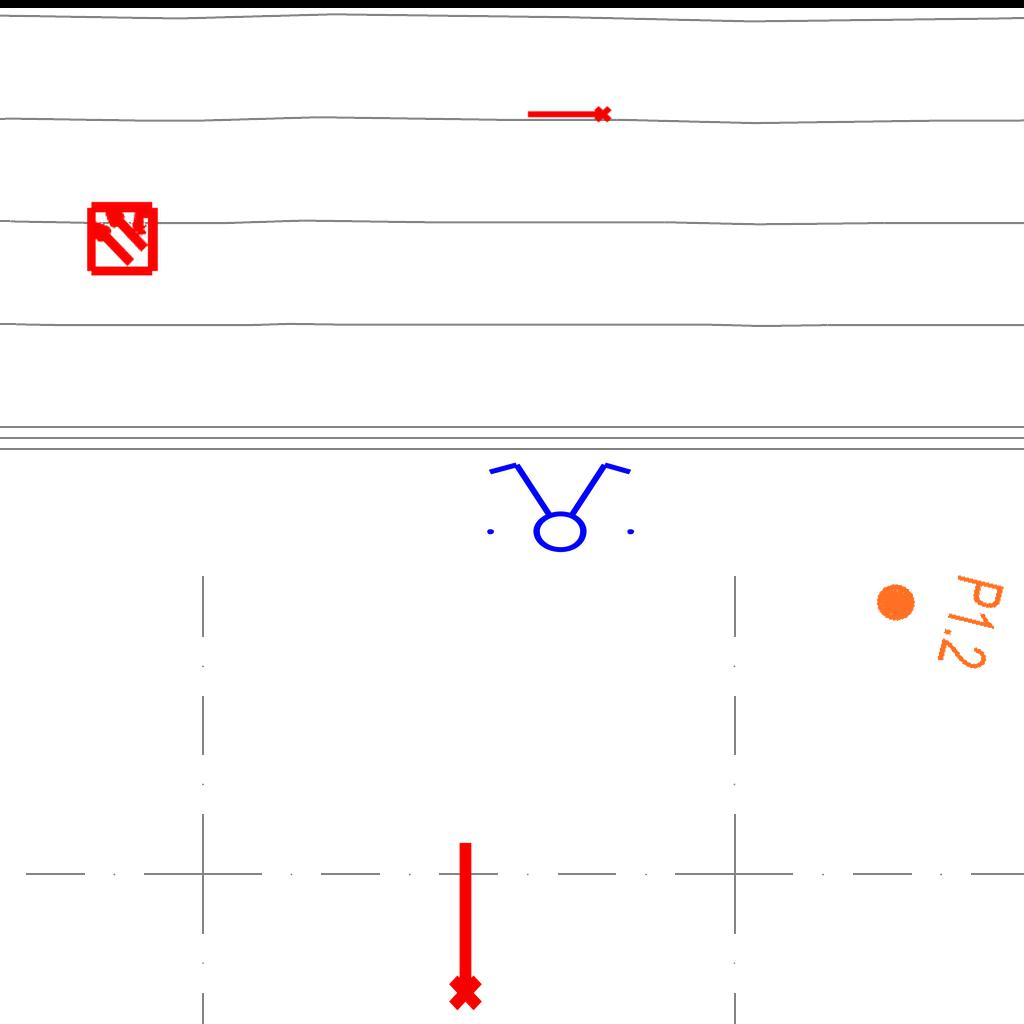ASR_Ansaugoeffnung: (440, 837, 486, 1013), (525, 104, 613, 127)
Downlight_LED_Einbauleuchten_Flur: (862, 553, 1009, 675)
OT_Multisensormelder_(Kombination_RMO_WMD): (66, 180, 179, 293)
Serienschalter: (475, 458, 643, 554)
